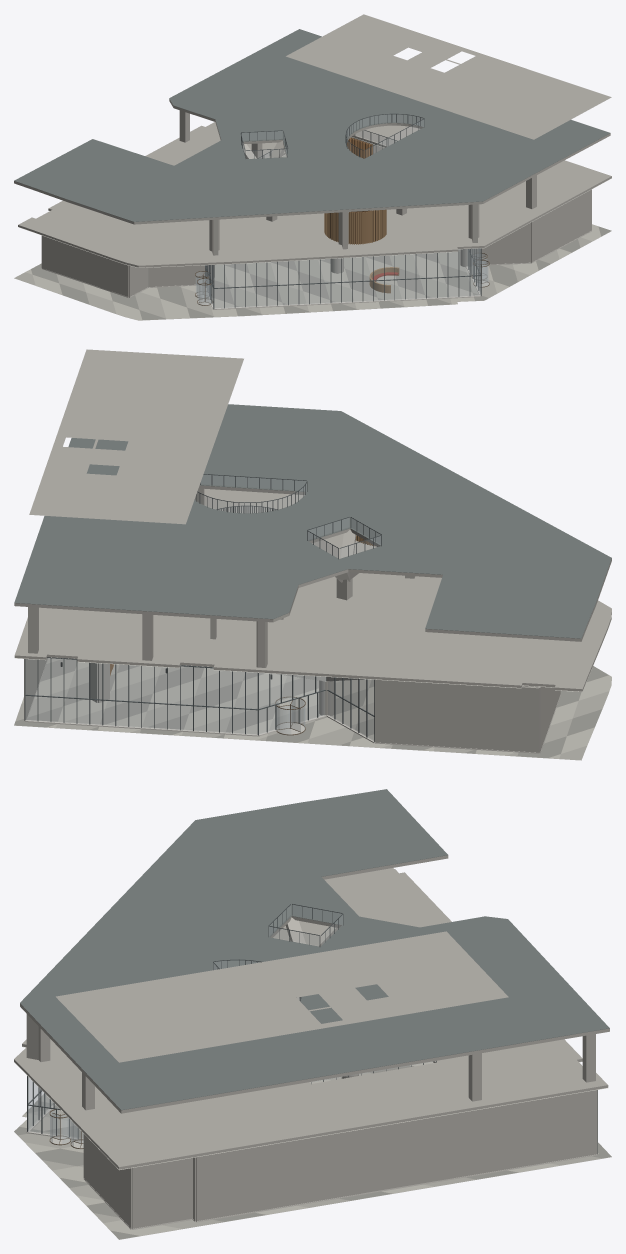
Rendered from mar-interior-e79c52ac4a61.glb.
3 views of the same model, one above another, from view 1: azimuth 30°, elevation 25°; view 2: azimuth 150°, elevation 25°; view 3: azimuth 270°, elevation 25° (orthographic). The views are drawn at different scales.
Parts seen in each view (by area): view 1: MAR.001; view 2: MAR.001; view 3: MAR.001.
Part boxes in pixels (left/top/right/bottom): MAR.001: left=14, top=14, right=611, bottom=320; MAR.001: left=14, top=349, right=611, bottom=760; MAR.001: left=14, top=789, right=611, bottom=1239.
Size of the model in its own units: 67.69 by 17.43 by 53.21.
